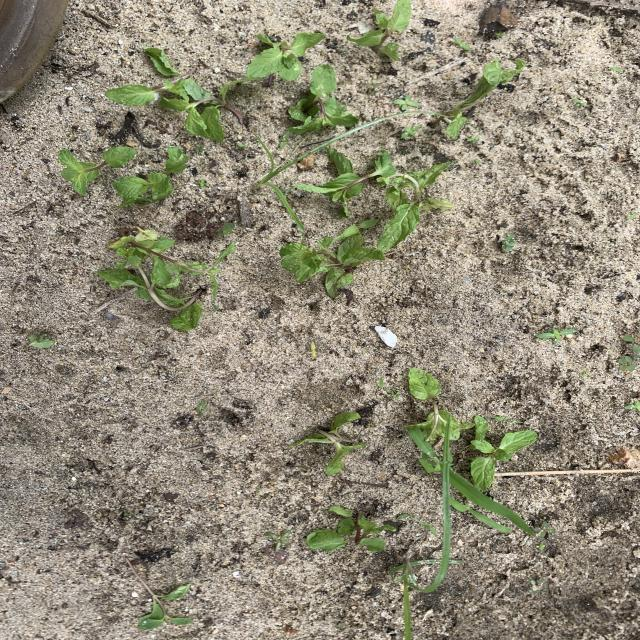crop: (108, 227, 236, 299), (98, 257, 203, 330), (295, 148, 397, 217), (280, 233, 384, 298), (377, 163, 451, 253), (446, 59, 525, 140), (468, 415, 538, 491), (160, 79, 244, 142), (288, 65, 359, 134), (105, 47, 188, 106), (407, 368, 473, 442), (126, 560, 193, 630), (293, 412, 365, 475), (113, 147, 188, 206), (306, 506, 396, 552), (58, 146, 137, 196), (347, 0, 411, 61), (247, 33, 324, 81), (28, 330, 55, 349)
weed: (253, 109, 447, 233), (449, 468, 539, 534), (395, 560, 464, 640), (407, 424, 441, 473), (396, 513, 441, 539), (470, 510, 510, 533), (618, 335, 640, 372), (338, 220, 379, 239), (263, 530, 292, 556), (537, 328, 575, 344), (378, 377, 401, 400), (394, 95, 420, 111), (535, 522, 554, 539), (400, 125, 420, 140), (362, 83, 385, 96), (492, 415, 524, 424), (625, 398, 640, 416), (572, 97, 592, 110), (454, 38, 472, 52), (279, 130, 292, 149), (215, 222, 235, 234), (194, 400, 207, 415), (235, 141, 252, 152), (117, 512, 135, 522), (192, 144, 207, 156), (308, 341, 317, 360), (466, 134, 480, 145), (626, 211, 640, 220), (609, 67, 626, 74), (196, 179, 209, 188), (580, 369, 593, 378), (536, 542, 546, 552), (473, 157, 482, 166), (213, 305, 220, 312)
